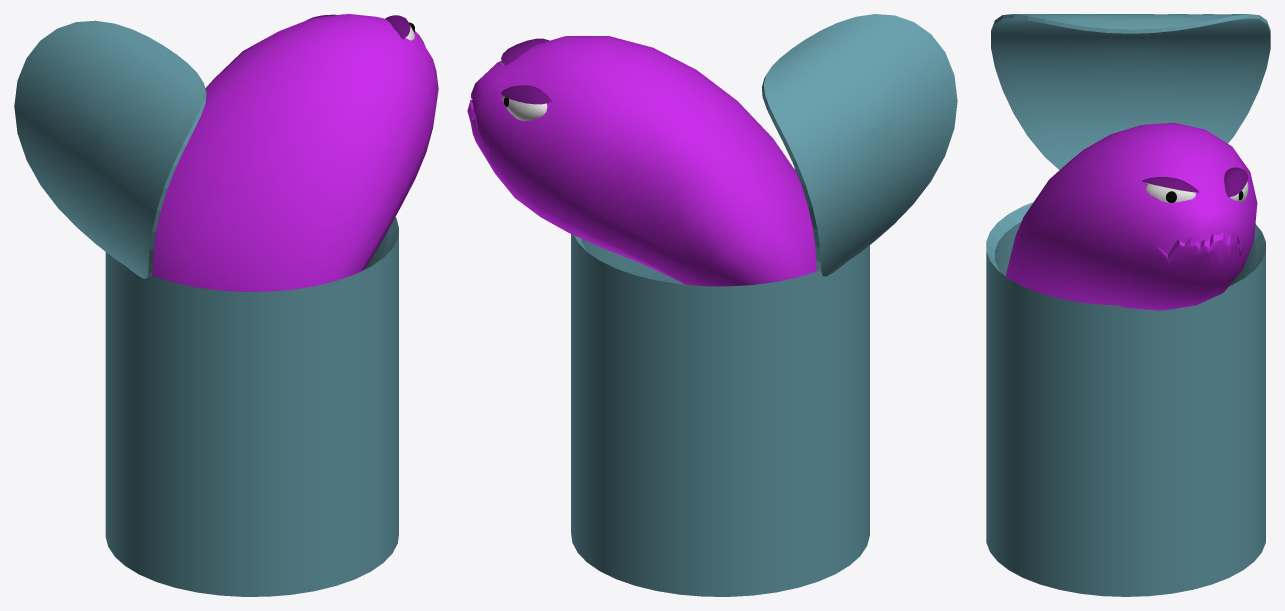
The model's file is The can.fbx.
3 views of the same model, side by side, from view 1: azimuth 30°, elevation 25°; view 2: azimuth 150°, elevation 25°; view 3: azimuth 270°, elevation 25° (orthographic). The views are drawn at different scales.
Visible parts, largest first — view 1: polySurface13, pSphere9, polySurface12; view 2: polySurface13, pSphere9, polySurface12, polySurface8, polySurface9; view 3: polySurface13, pSphere9, polySurface12, polySurface8, polySurface11, polySurface10.
Boxes of the visible parts, box(x1,y1,x2,y2) form: polySurface13: box(105, 217, 398, 596); pSphere9: box(151, 14, 438, 291); polySurface12: box(14, 20, 206, 278); polySurface13: box(571, 168, 869, 596); pSphere9: box(467, 36, 816, 286); polySurface12: box(762, 14, 957, 276); polySurface8: box(501, 85, 551, 104); polySurface9: box(502, 96, 547, 120); polySurface13: box(986, 202, 1265, 596); pSphere9: box(1006, 122, 1257, 310); polySurface12: box(991, 14, 1270, 169); polySurface8: box(1224, 167, 1248, 197); polySurface11: box(1145, 182, 1195, 203); polySurface10: box(1142, 177, 1198, 192).
Bounding box in the file's own units: 2.92 × 3.75 × 2.03.
